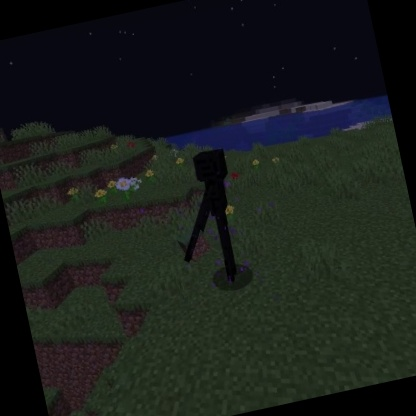enderman: (161, 145, 254, 295)
